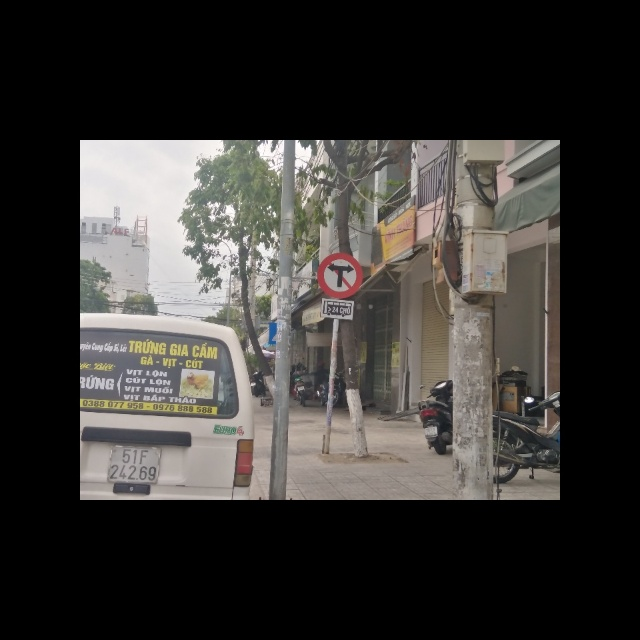Cấm rẽ trái và rẽ phải: (317, 252, 365, 299)
